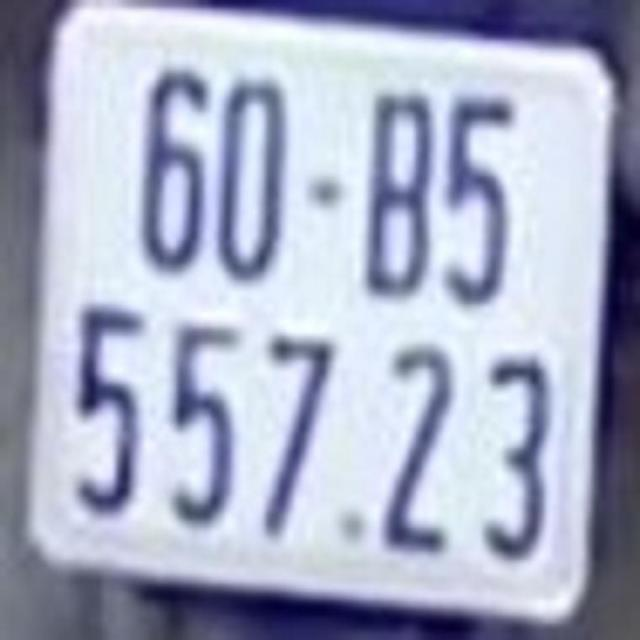0: (217, 77, 291, 286)
2: (383, 343, 451, 552)
3: (479, 354, 556, 567)
5: (440, 90, 514, 313), (166, 316, 236, 542), (72, 302, 140, 524)
6: (137, 61, 210, 270)
7: (262, 330, 341, 548)
B: (364, 90, 434, 309)
